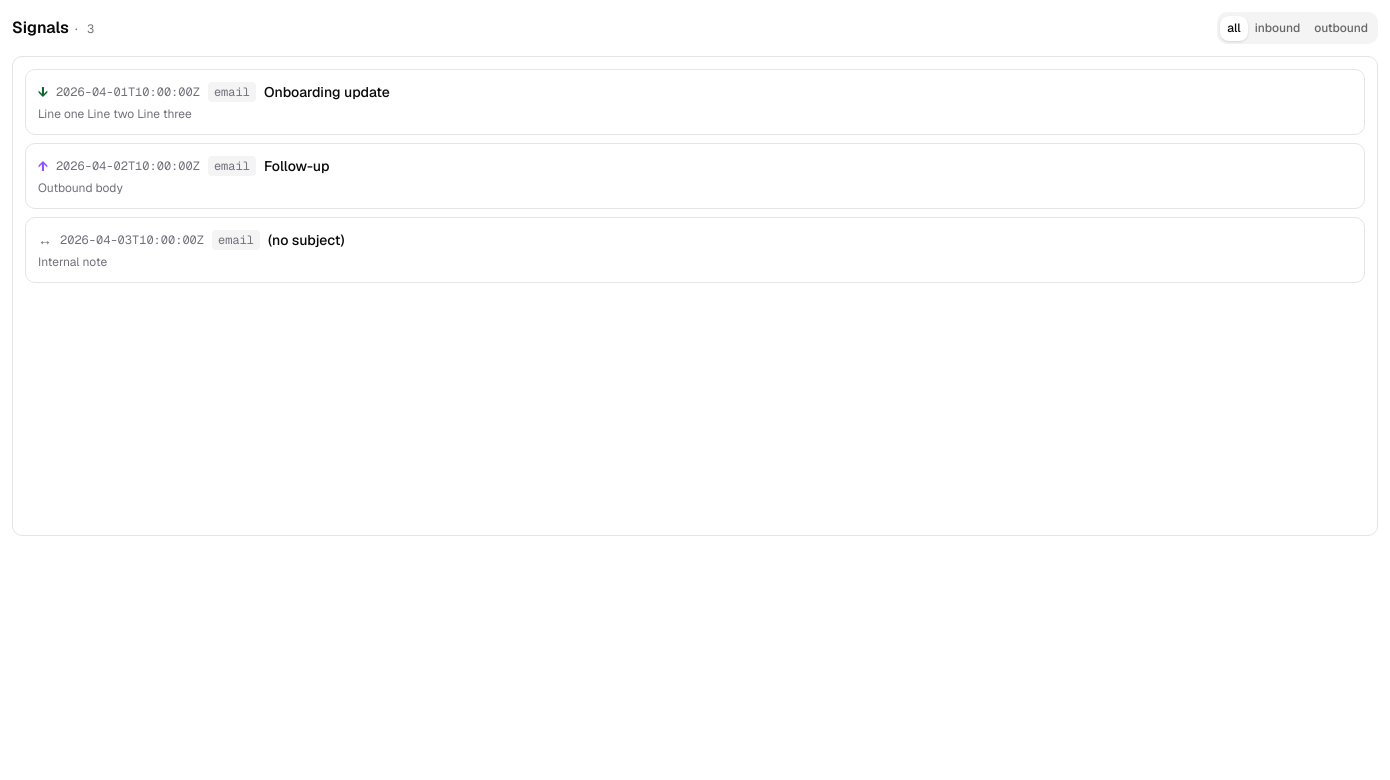
Test: SignalsTimeline › OUTBOUND filter hides inbound signals
Click the tab "outbound" at coordinates (1341, 28), box x1=1307 y1=16 x2=1375 y2=40
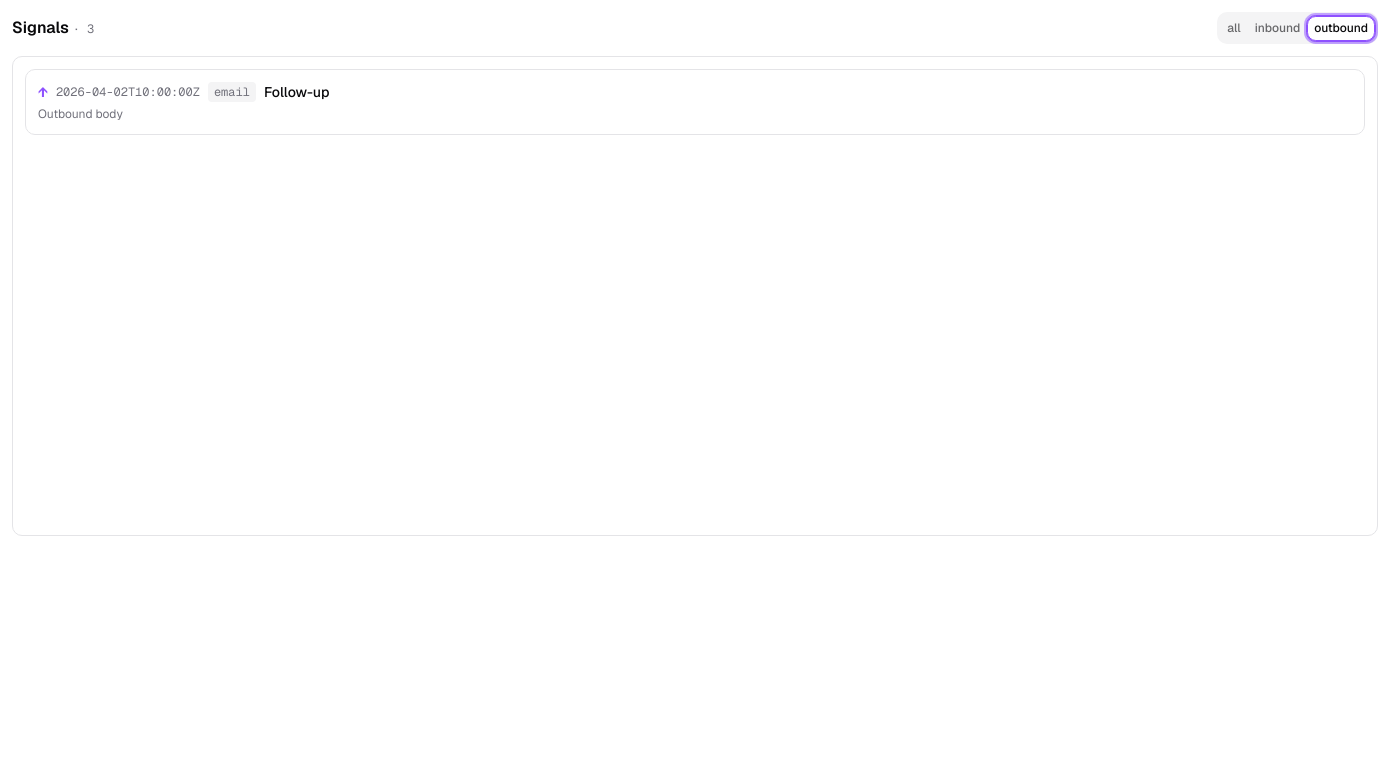
Expected: the text "Follow-up" is shown, x1=264 y1=82 x2=330 y2=102
Expected: the button "Onboarding update" is gone
